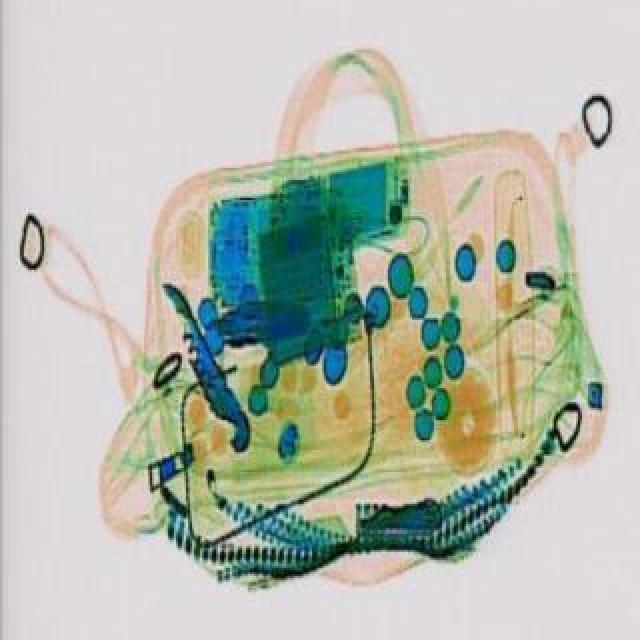knife: (150, 284, 258, 462)
